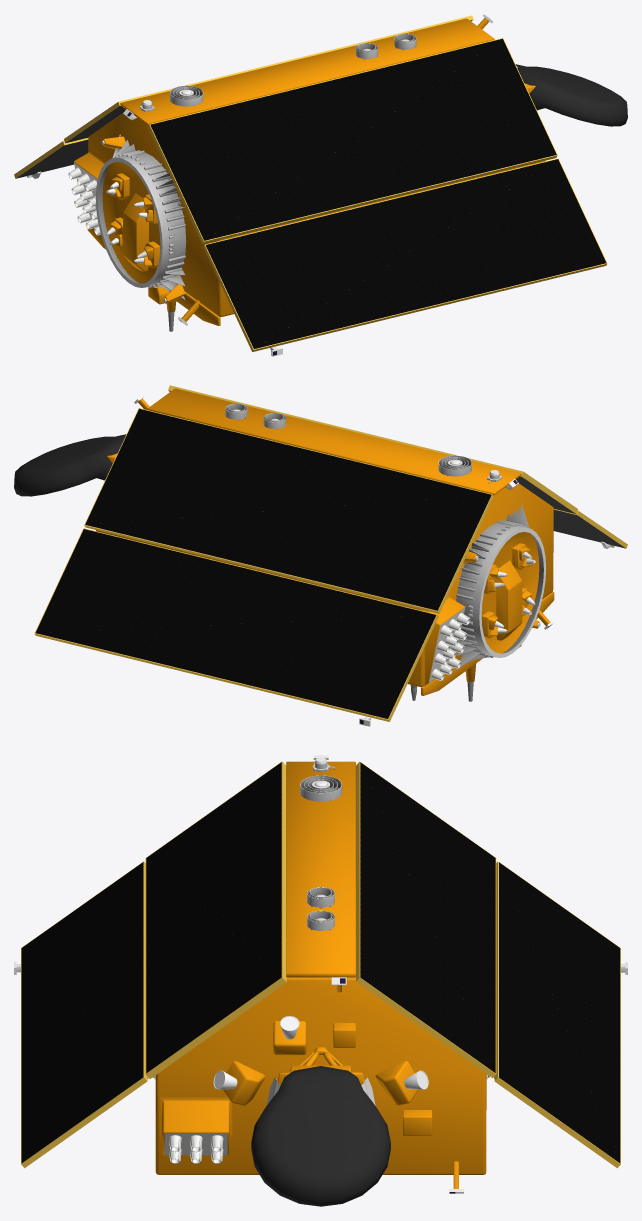
File: jason-continuity-of-service-sentinel-6.glb
3 views of the same model, one above another, from view 1: azimuth 30°, elevation 25°; view 2: azimuth 150°, elevation 25°; view 3: azimuth 270°, elevation 25° (orthographic). The views are drawn at different scales.
Parts seen in each view (by area): view 1: array, BUS, GNSS_POD_RO_SPA; view 2: array, BUS, GNSS_POD_RO_SPA; view 3: array, BUS, GNSS_POD_RO_SPA.
Boxes of the visible parts, <box> form: array: <box>14,15,607,351</box>; BUS: <box>16,14,627,356</box>; GNSS_POD_RO_SPA: <box>95,33,416,299</box>; array: <box>34,385,627,721</box>; BUS: <box>14,388,625,726</box>; GNSS_POD_RO_SPA: <box>225,403,546,669</box>; array: <box>21,761,620,1168</box>; BUS: <box>14,755,627,1206</box>; GNSS_POD_RO_SPA: <box>300,757,342,930</box>.
Size of the model in its own units: 5.13 by 2.32 by 4.37.
Materials: 8 (8 with a texture image).
